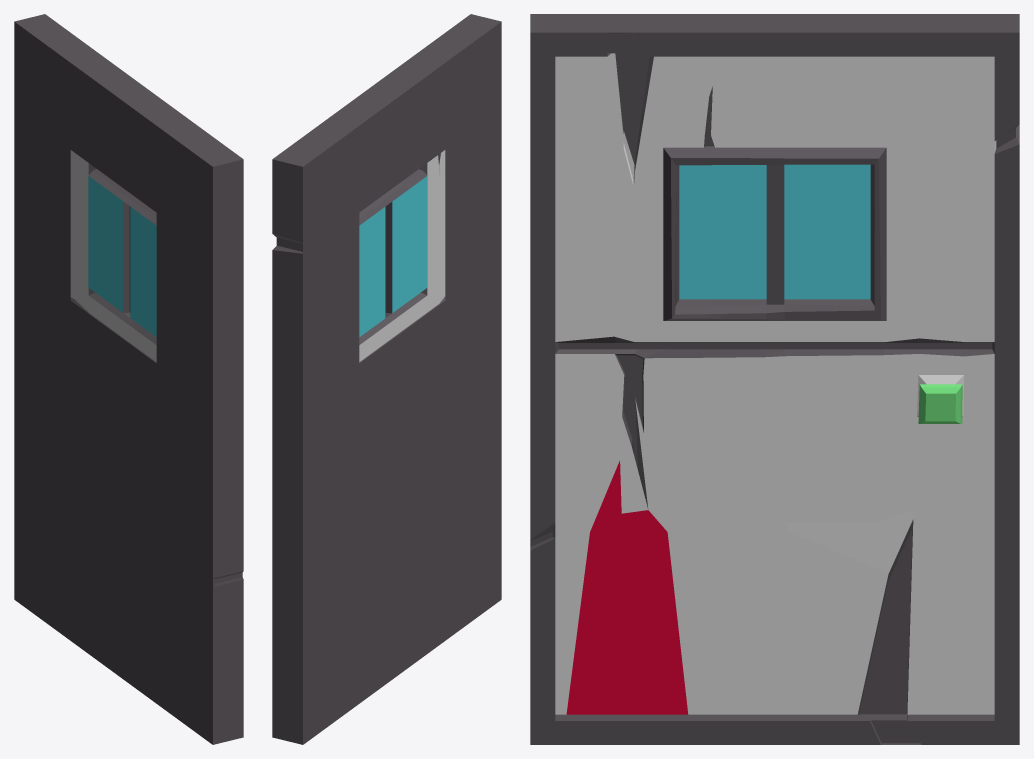
Rendered from tür test.fbx.
The picture shows the model from 3 angles, left to right: view 1: azimuth 30°, elevation 25°; view 2: azimuth 150°, elevation 25°; view 3: azimuth 270°, elevation 25°; orthographic projection. The views are drawn at different scales.
Visible parts, largest first — view 1: Tür; view 2: Tür; view 3: Tür.
Boxes of the visible parts, <box> form: Tür: <box>14,14,243,744</box>; Tür: <box>272,14,501,744</box>; Tür: <box>530,14,1019,744</box>.
Bounding box in the file's own units: 17.12 × 240 × 149.
